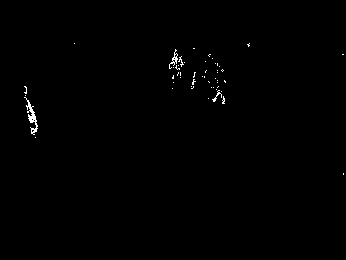person: (202, 53, 227, 106), (168, 46, 185, 87)
